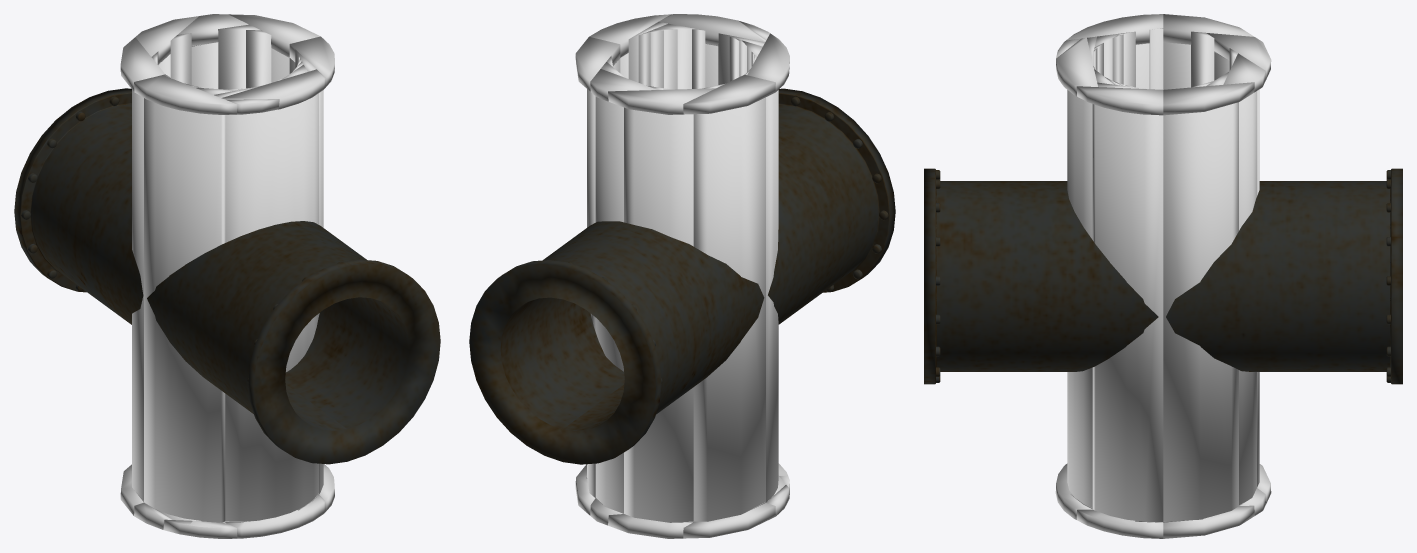
File: SM_Pipes_Large_Half.fbx
The picture shows the model from 3 angles, left to right: view 1: azimuth 30°, elevation 25°; view 2: azimuth 150°, elevation 25°; view 3: azimuth 270°, elevation 25°; orthographic projection.
Parts seen in each view (by area): view 1: SM_Pipes_Large_Half_ConvexHulls, SM_Pipes_Large_Half; view 2: SM_Pipes_Large_Half_ConvexHulls, SM_Pipes_Large_Half; view 3: SM_Pipes_Large_Half_ConvexHulls, SM_Pipes_Large_Half.
Part boxes in pixels (box(x1,y1,x2,y2)): SM_Pipes_Large_Half_ConvexHulls: box(120, 14, 334, 538); SM_Pipes_Large_Half: box(14, 88, 440, 464); SM_Pipes_Large_Half_ConvexHulls: box(575, 14, 789, 538); SM_Pipes_Large_Half: box(469, 88, 895, 464); SM_Pipes_Large_Half_ConvexHulls: box(1055, 14, 1271, 538); SM_Pipes_Large_Half: box(924, 168, 1402, 384).
Bounding box in the file's own units: 0.9005 × 2 × 2.
